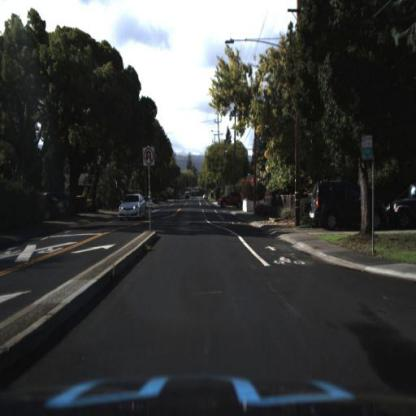car: (310, 173, 382, 230), (115, 188, 149, 225), (41, 187, 68, 229), (216, 189, 243, 210)
